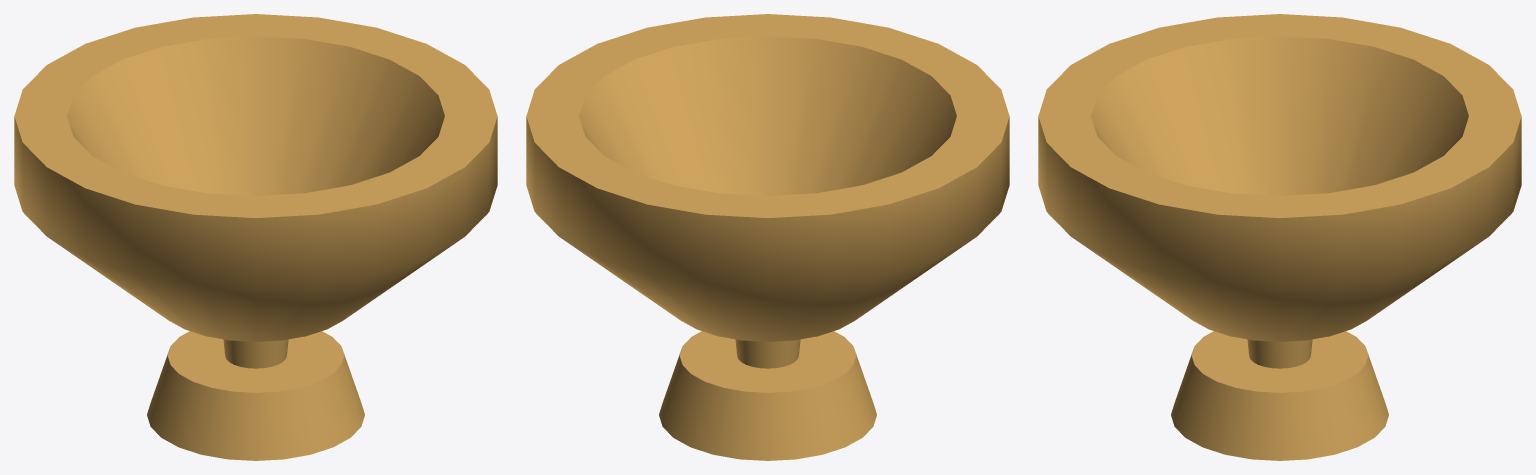
The model's file is detailBowl.obj.
The picture shows the model from 3 angles, left to right: view 1: azimuth 30°, elevation 25°; view 2: azimuth 150°, elevation 25°; view 3: azimuth 270°, elevation 25°; orthographic projection.
Parts seen in each view (by area): view 1: detailBowl; view 2: detailBowl; view 3: detailBowl.
Boxes of the visible parts, x1,y1,x2,y2 form: detailBowl: (14, 14, 497, 460); detailBowl: (526, 14, 1009, 460); detailBowl: (1038, 14, 1521, 460).
Bounding box in the file's own units: 0.1587 × 0.1083 × 0.1587.
